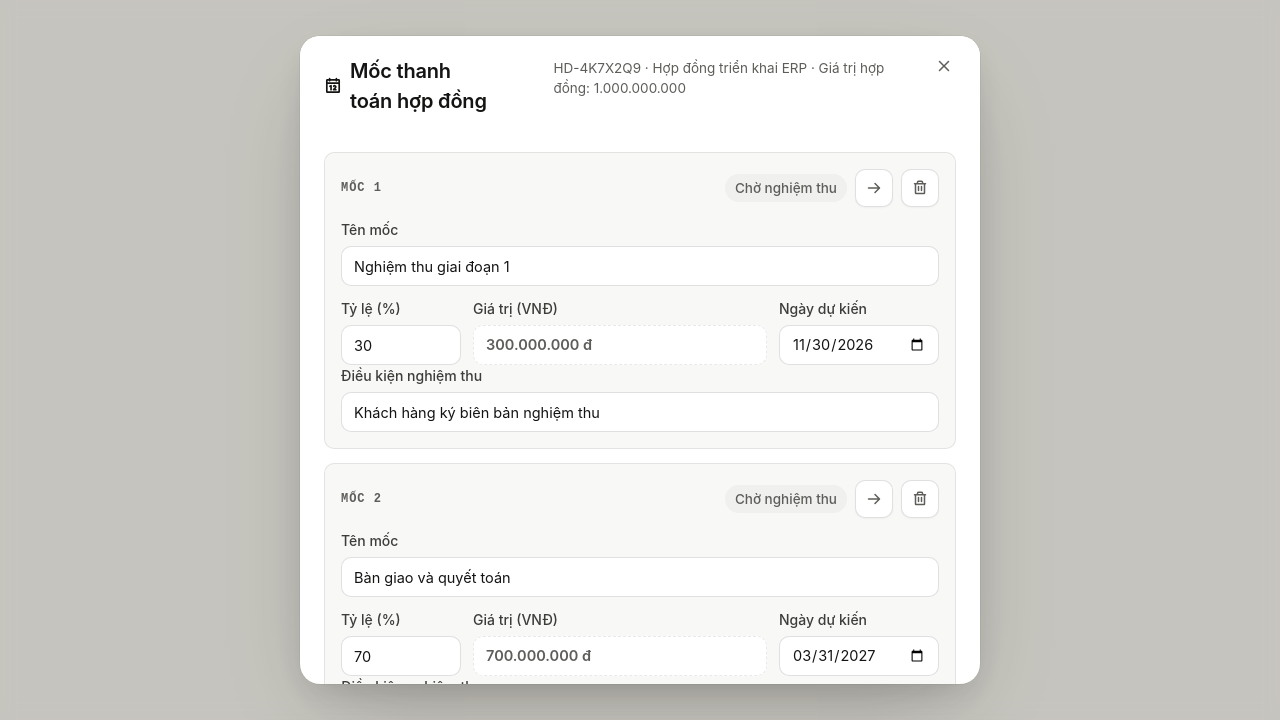
Test: ContractMilestonesModal (NCL-04-CN-003) › TC-02 (QTN-19): chặn lưu khi tổng các mốc khác giá trị hợp đồng
Check: the 1st field showing "Nghiệm thu giai đoạn 1" is shown, box [341, 246, 939, 286]
Replace the text in the number field named "Tỷ lệ phần trăm" with "10" at x=401, y=345, box [341, 325, 461, 365]
(page scrolled)
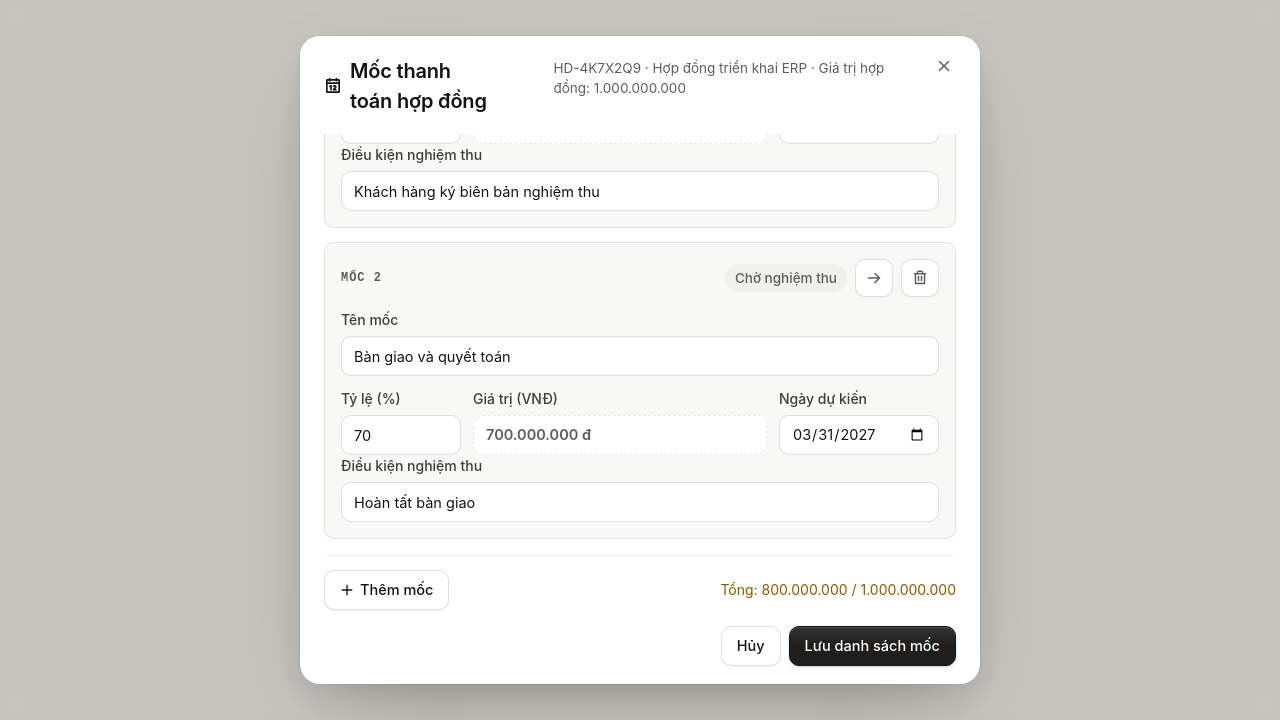
Click the button "Lưu danh sách mốc".
click(872, 646)  # box [788, 626, 956, 666]
(page scrolled)
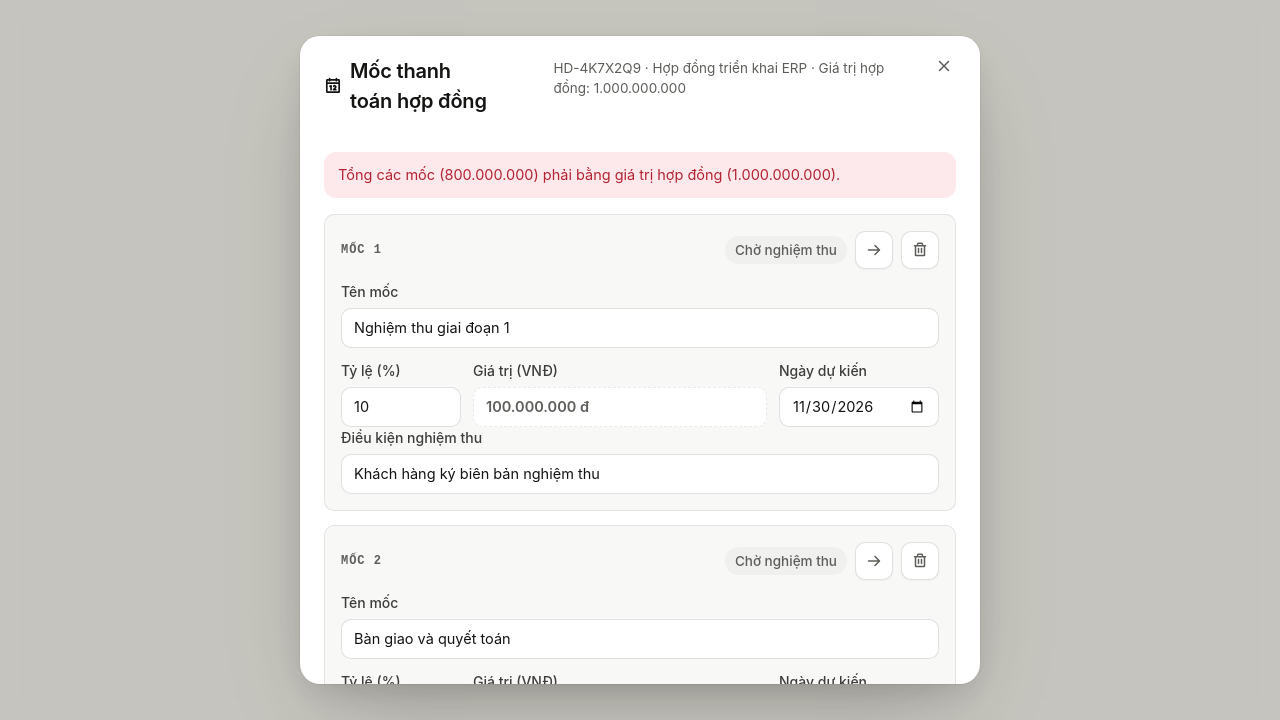
Check: the text "Tổng các mốc (800.000.000) phải bằng giá trị hợp đồng (1.000.000.000)." is shown, box [324, 152, 956, 198]
